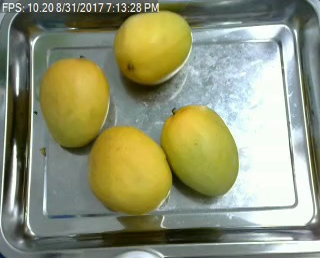Mango: (84, 122, 175, 212), (160, 103, 241, 201), (39, 53, 116, 147), (113, 6, 195, 85)
